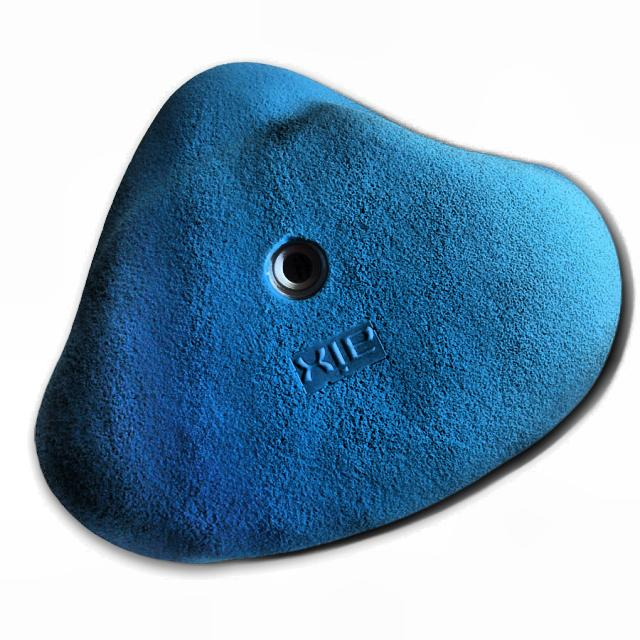Hold: (15, 46, 638, 587)
